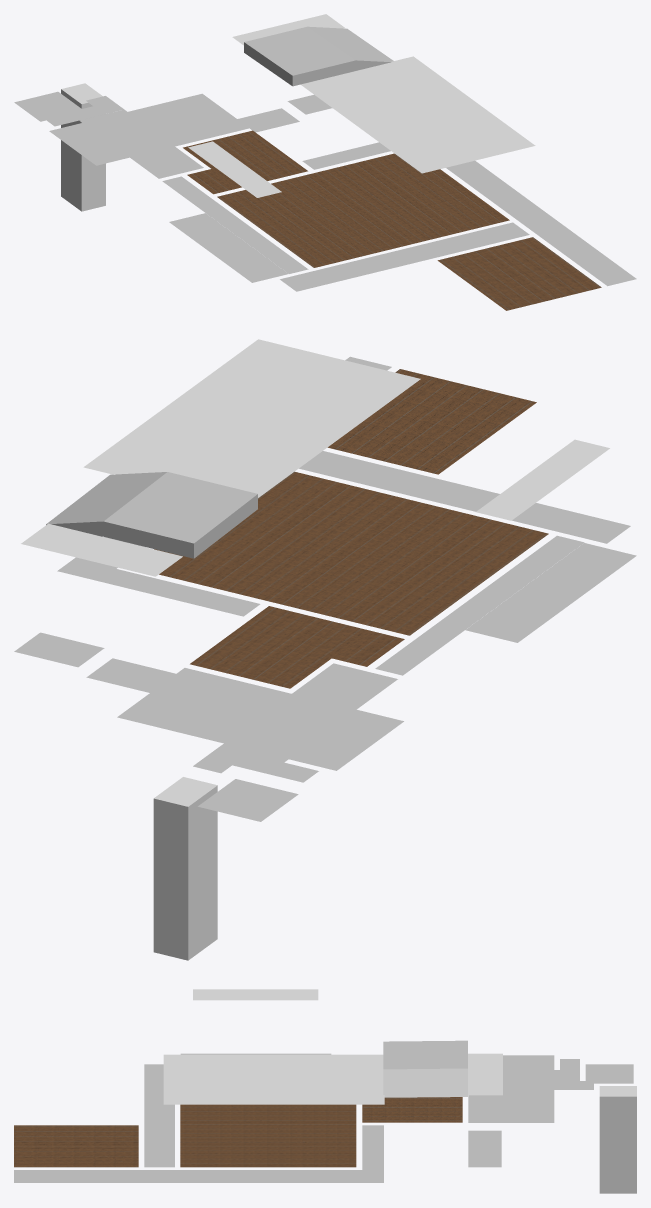
Rendered from 天井Col.fbx.
3 views of the same model, one above another, from view 1: azimuth 30°, elevation 25°; view 2: azimuth 150°, elevation 25°; view 3: azimuth 270°, elevation 25° (orthographic). The views are drawn at different scales.
Parts seen in each view (by area): view 1: Plane.394, Plane.435, Plane.395, Plane.393, Plane.398, Plane.399, Plane.402, Plane.403, Plane.401, Plane.431, Plane.396, Plane.400 (+10 smaller); view 2: Plane.394, Plane.435, Plane.393, Plane.395, Plane.431, Plane.396, Plane.402, Plane.403, Plane.399, Plane.401, Plane.400, Plane.437 (+9 smaller); view 3: Plane.394, Plane.435, Plane.395, Plane.393, Plane.398, Plane.431, Plane.399, Plane.403, Plane.396, Plane.437, Plane.408, Plane.402 (+7 smaller).
Boxes of the visible parts, x1,y1,x2,y2 form: Plane.394: (217, 153, 509, 267); Plane.435: (300, 56, 535, 173); Plane.395: (437, 237, 601, 310); Plane.393: (244, 26, 393, 86); Plane.398: (446, 160, 636, 286); Plane.399: (280, 222, 529, 291); Plane.402: (79, 109, 203, 178); Plane.403: (128, 93, 249, 146); Plane.401: (169, 213, 288, 282); Plane.431: (61, 83, 105, 211); Plane.396: (183, 130, 307, 188); Plane.400: (162, 176, 308, 273); Plane.394: (154, 471, 548, 635); Plane.435: (83, 339, 420, 497); Plane.393: (46, 472, 257, 558); Plane.395: (327, 369, 536, 474); Plane.431: (153, 777, 217, 960); Plane.396: (190, 606, 369, 688); Plane.402: (220, 663, 397, 762); Plane.403: (117, 668, 291, 743); Plane.399: (299, 451, 630, 543); Plane.401: (465, 543, 636, 642); Plane.400: (375, 535, 584, 675); Plane.437: (21, 523, 182, 576); Plane.394: (180, 1104, 356, 1167); Plane.435: (163, 1054, 384, 1104); Plane.395: (14, 1125, 138, 1167); Plane.393: (383, 1040, 467, 1097); Plane.398: (14, 1170, 362, 1182); Plane.431: (599, 1086, 636, 1193); Plane.399: (144, 1064, 174, 1167); Plane.403: (468, 1090, 554, 1122); Plane.396: (362, 1097, 462, 1122); Plane.437: (468, 1053, 502, 1095); Plane.408: (362, 1125, 383, 1182); Plane.402: (503, 1070, 559, 1089).
Size of the model in its own units: 1066 by 700 by 2175.
